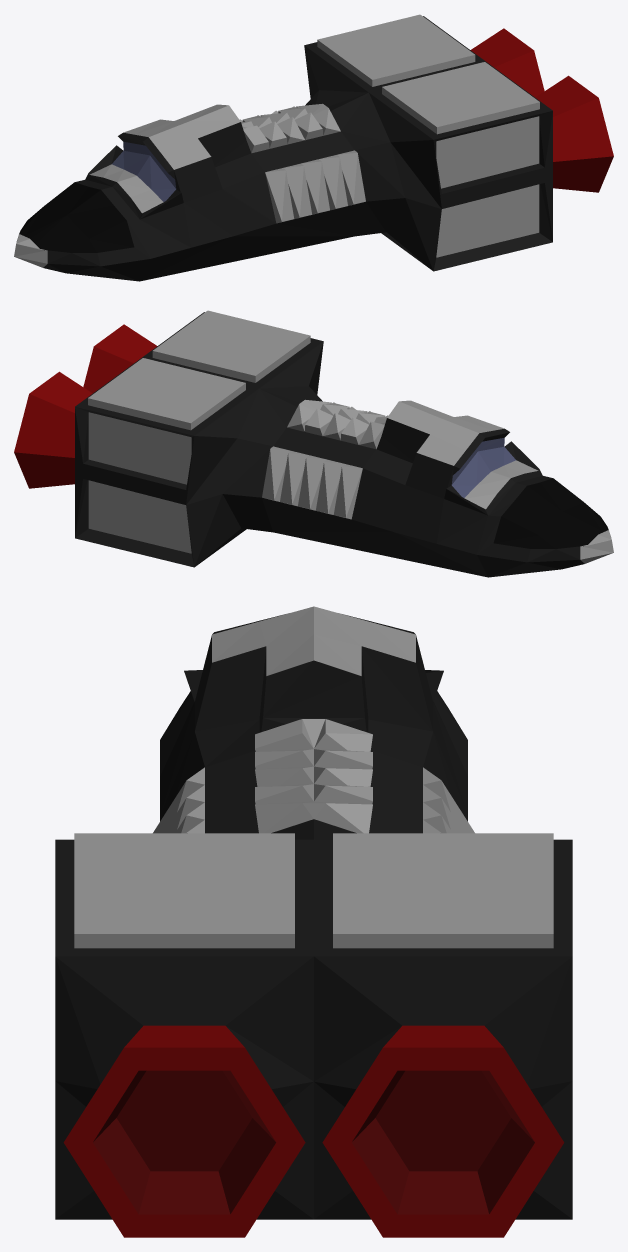
The model's file is Cargo2.FBX.
3 renders of one model, top to bottom at view 1: azimuth 30°, elevation 25°; view 2: azimuth 150°, elevation 25°; view 3: azimuth 270°, elevation 25°, orthographic. The views are drawn at different scales.
Parts seen in each view (by area): view 1: Cargo2; view 2: Cargo2; view 3: Cargo2.
Part boxes in pixels (<box>): Cargo2: <box>14,14,613,281</box>; Cargo2: <box>14,310,613,577</box>; Cargo2: <box>55,606,572,1237</box>.
Bounding box in the file's own units: 12.01 × 3.27 × 5.01.
